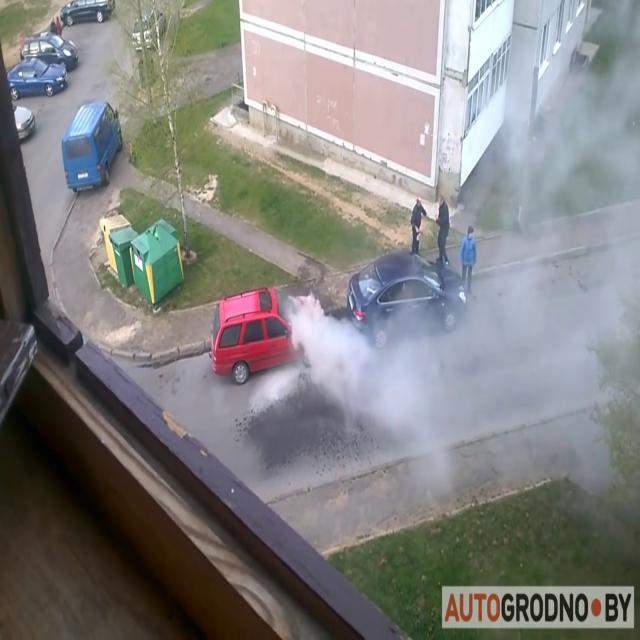Smoke: (473, 9, 640, 528), (286, 267, 488, 448)
